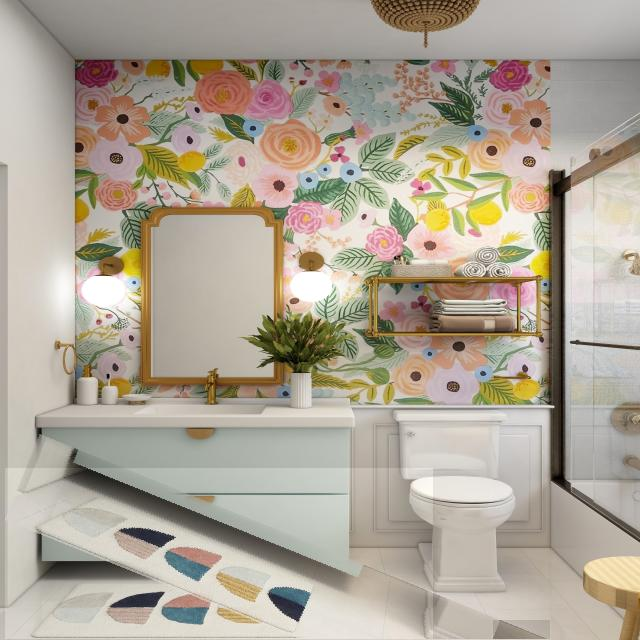floor: (6, 469, 433, 640), (493, 620, 550, 640), (636, 634, 640, 640)
